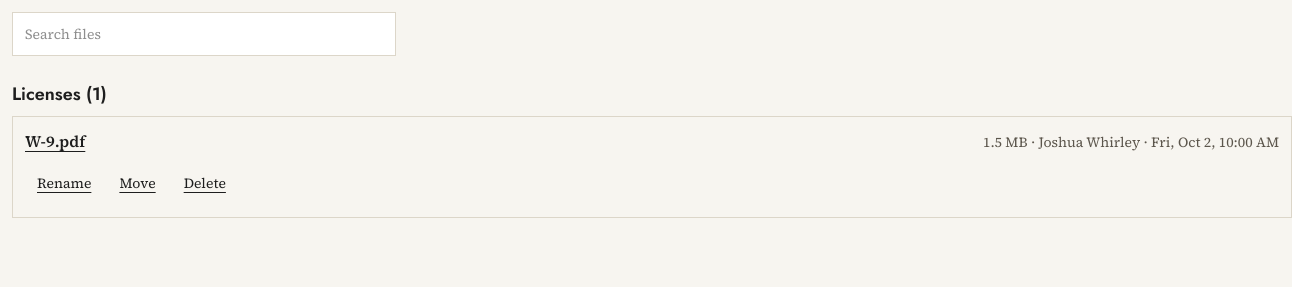
Test: ResourceList › shows a rename that throws on the row, not as a crash
Click the button with aria-label "Rename W-9.pdf" at [64, 183], box [25, 161, 103, 205]
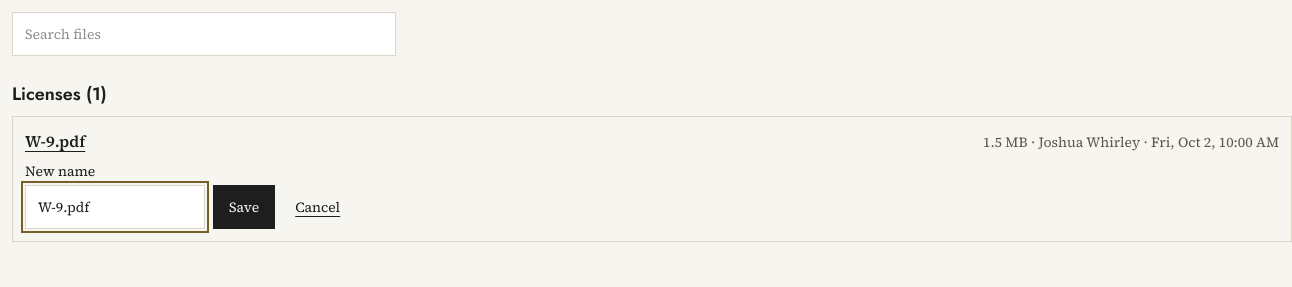
Click the button "Save" at [244, 207], box [213, 185, 275, 229]
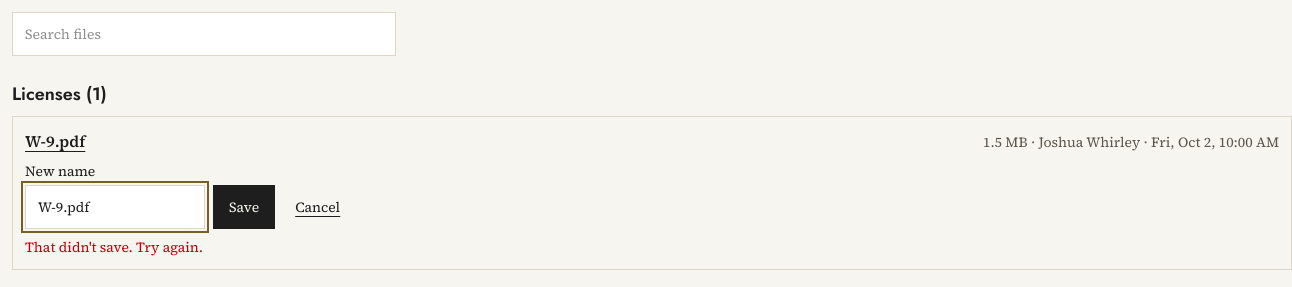
Expected: the message reads "That didn't save. Try again.", [25, 237, 203, 257]
